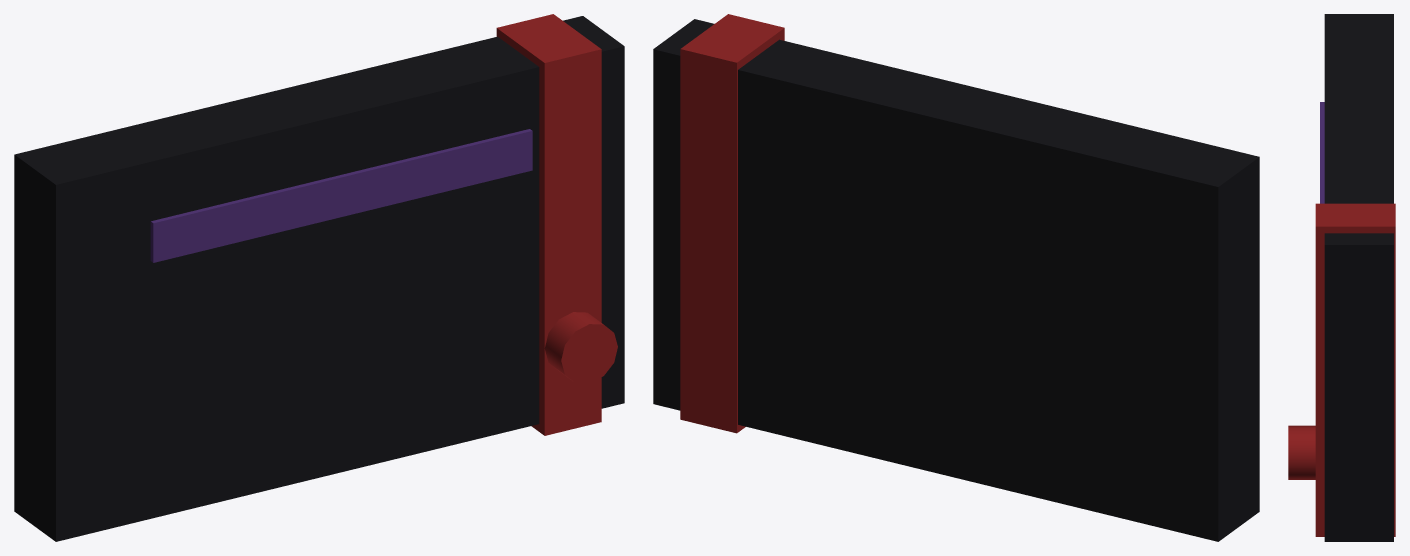
File: t1_coder.obj
The picture shows the model from 3 angles, left to right: view 1: azimuth 30°, elevation 25°; view 2: azimuth 150°, elevation 25°; view 3: azimuth 270°, elevation 25°; orthographic projection. The views are drawn at different scales.
Parts seen in each view (by area): view 1: t1_coder; view 2: t1_coder; view 3: t1_coder.
Part boxes in pixels (x1,y1,x2,y2): t1_coder: [14, 14, 624, 541]; t1_coder: [653, 14, 1259, 541]; t1_coder: [1288, 14, 1395, 541].
Bounding box in the file's own units: 0.3 × 0.188 × 0.059.
